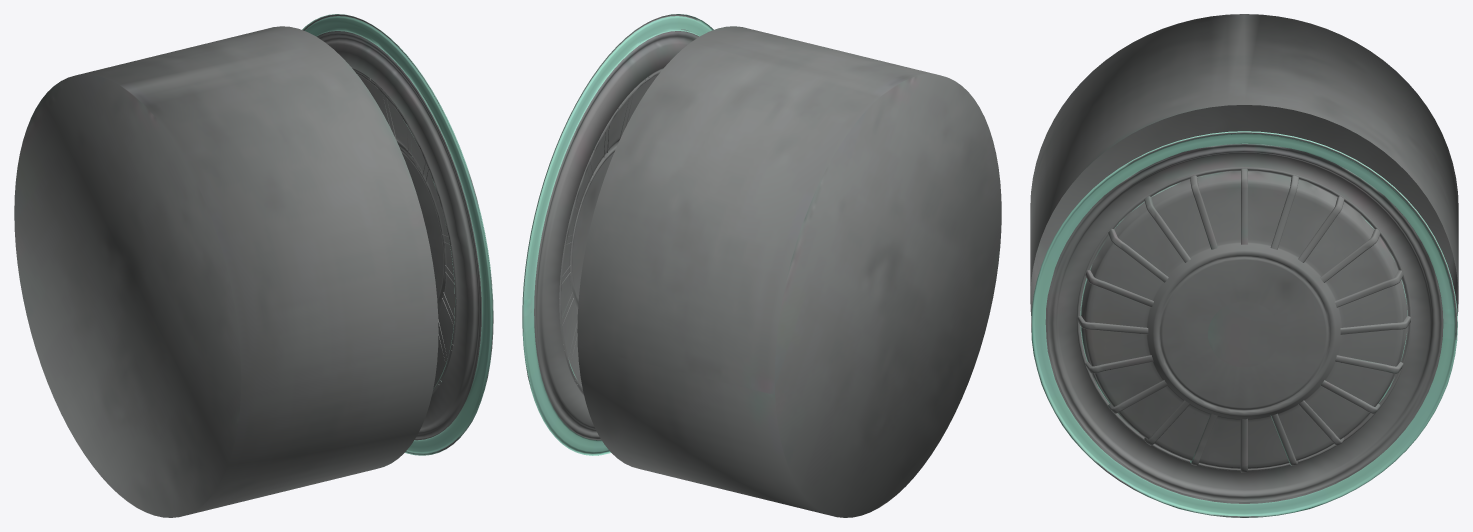
3 renders of one model, left to right at view 1: azimuth 30°, elevation 25°; view 2: azimuth 150°, elevation 25°; view 3: azimuth 270°, elevation 25°, orthographic. The views are drawn at different scales.
Visible parts, largest first — view 1: Volt; view 2: Volt; view 3: Volt.
Boxes of the visible parts, bbox=[...] form: Volt: bbox=[14, 14, 493, 517]; Volt: bbox=[522, 14, 1001, 517]; Volt: bbox=[1030, 14, 1458, 517].
Size of the model in its own units: 0.8328 by 1.19 by 1.19.
Materials: 1 (1 with a texture image).
